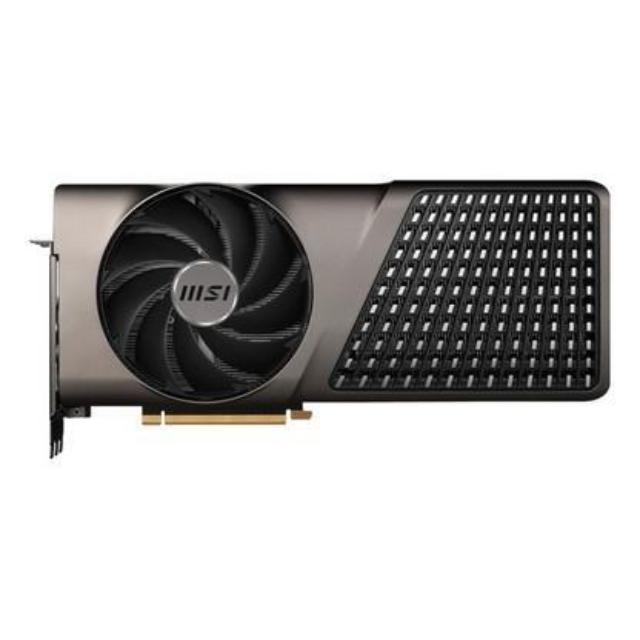GPU: (44, 171, 618, 443)
